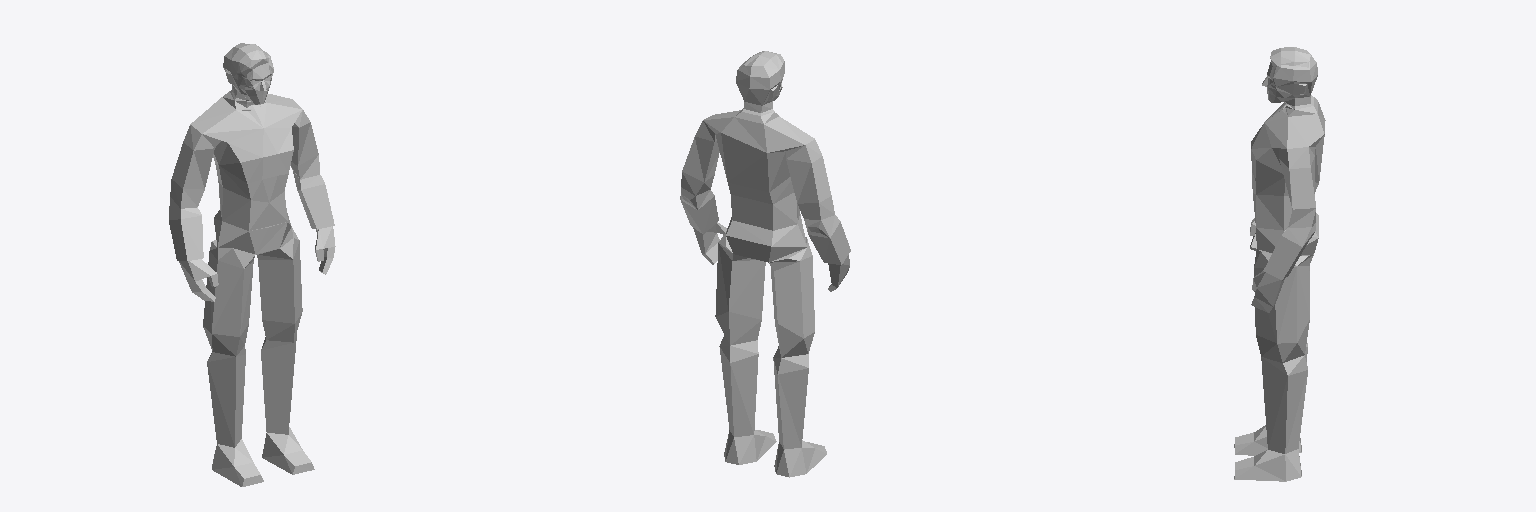
File: Manuel7.obj
3 renders of one model, left to right at view 1: azimuth 30°, elevation 25°; view 2: azimuth 150°, elevation 25°; view 3: azimuth 270°, elevation 25°, orthographic.
Parts seen in each view (by area): view 1: leon; view 2: leon; view 3: leon.
Part boxes in pixels (bbox=[...]): leon: bbox=[169, 43, 335, 486]; leon: bbox=[680, 51, 850, 477]; leon: bbox=[1234, 47, 1325, 481].
Bounding box in the file's own units: 4.73 × 12.18 × 2.44.